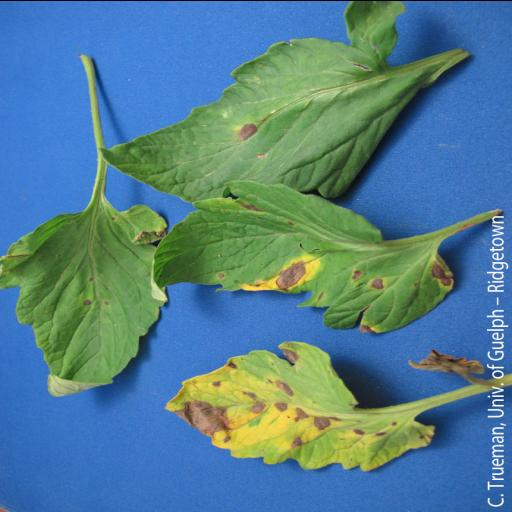disease_tomato: (98, 9, 475, 200), (150, 186, 458, 334), (157, 344, 436, 476), (0, 204, 169, 400)
